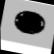correct: (8, 4, 49, 39)
